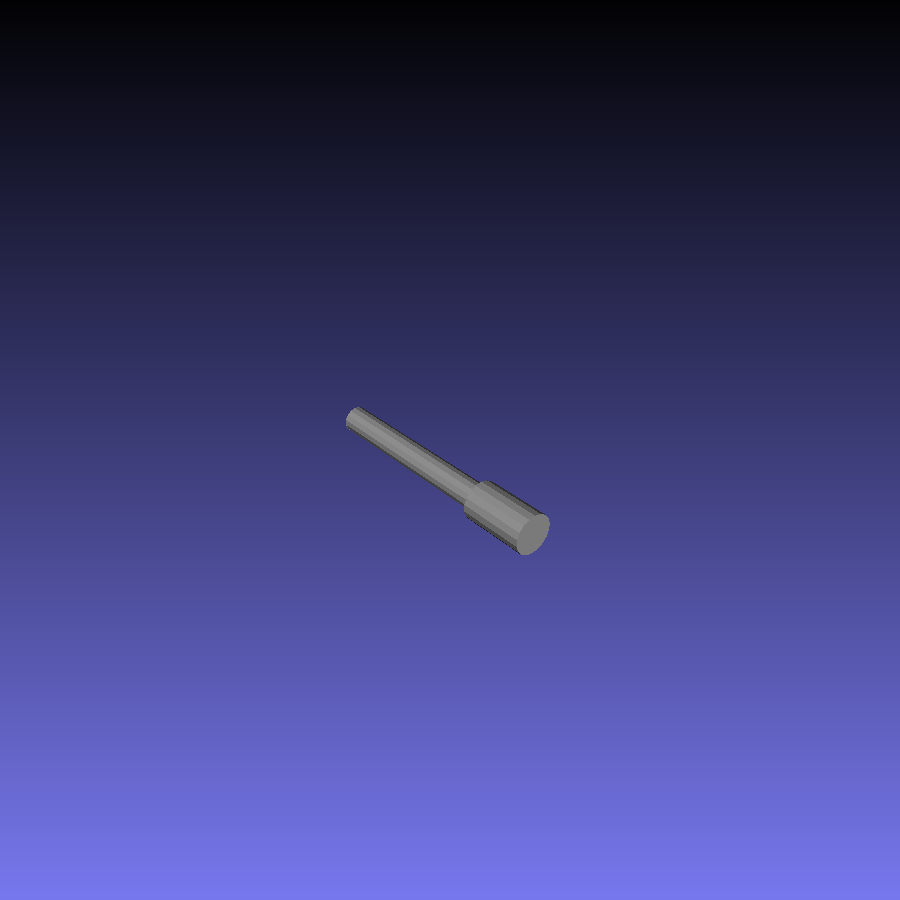cargo_g: (346, 405, 551, 558)
